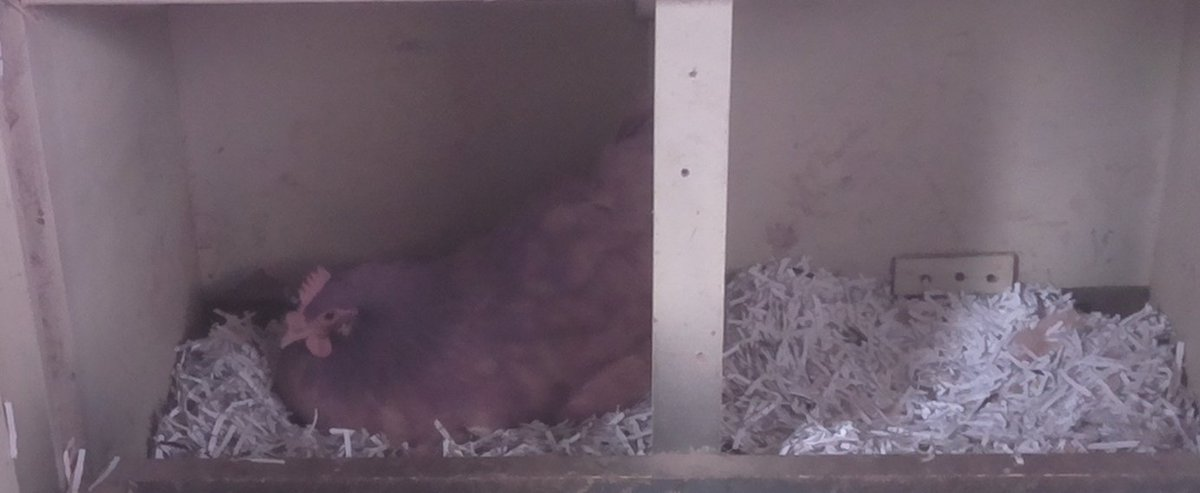hen: (268, 112, 649, 438)
